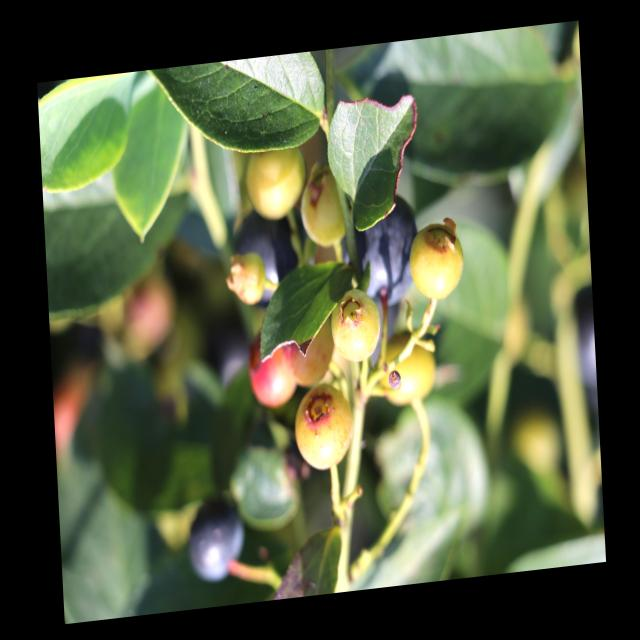blueberry: (346, 193, 420, 310), (226, 204, 299, 302), (186, 498, 248, 586)
blueberry-halfripe: (246, 333, 294, 412)
blueberry-unripe: (296, 382, 358, 474), (407, 221, 466, 304), (378, 332, 439, 411), (245, 142, 305, 220), (298, 163, 348, 255), (280, 310, 334, 393), (330, 290, 380, 367)
